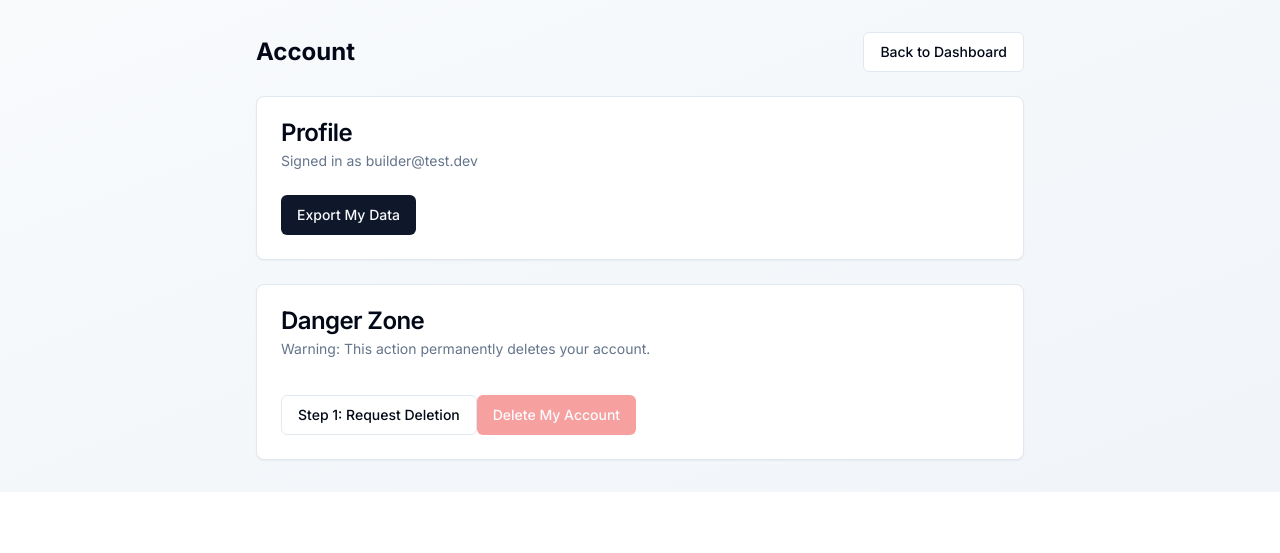
it: AccountPage › downloads exported account data
The image size is (1280, 553).
Step 1. Click the button "Export My Data" → click(348, 215), box [281,195,416,235]
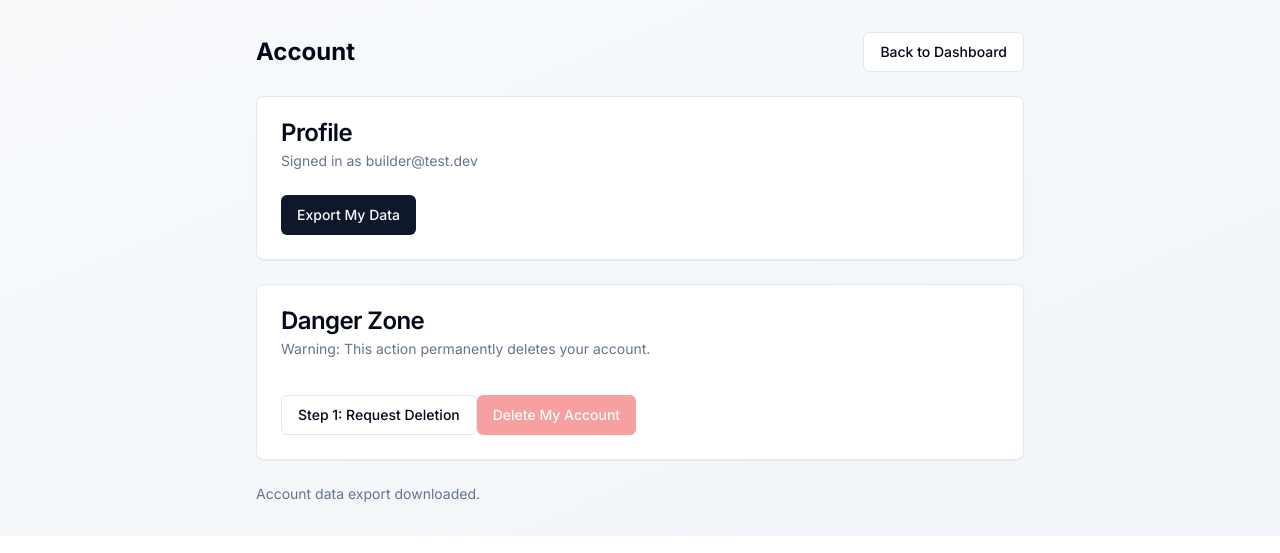
expect the text "Account data export downloaded." is shown: met, box [256,485,480,502]
